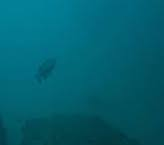smallfish: (30, 53, 63, 88)
